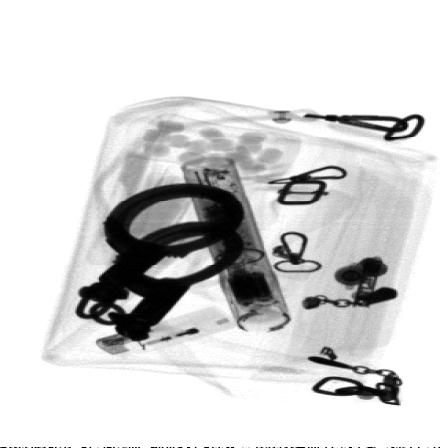Baton: (177, 157, 291, 332)
HandCuffs: (79, 180, 250, 339)
Lighter: (91, 306, 238, 361)
